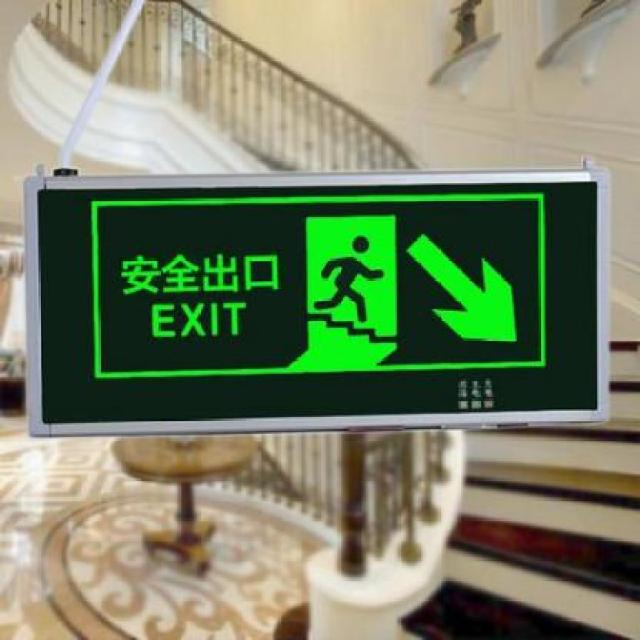exit_sign: (35, 183, 604, 417)
